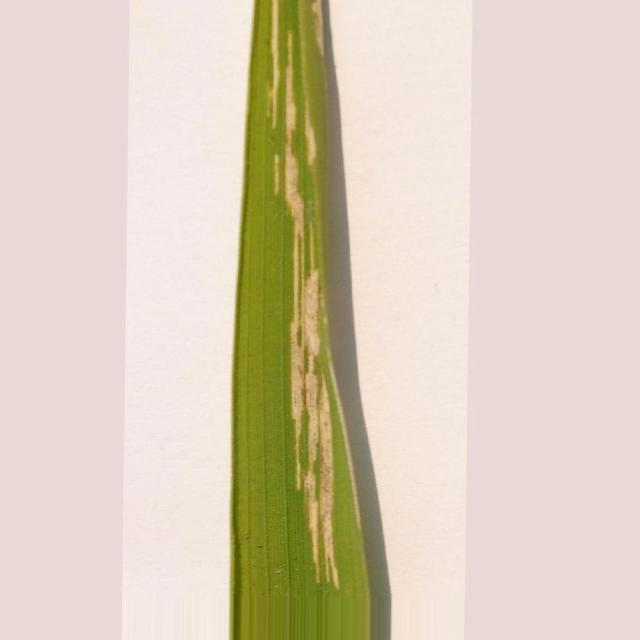Bacterial_Leaf_Blight: (284, 31, 339, 588), (271, 0, 280, 127), (311, 0, 324, 55), (274, 154, 280, 195)
